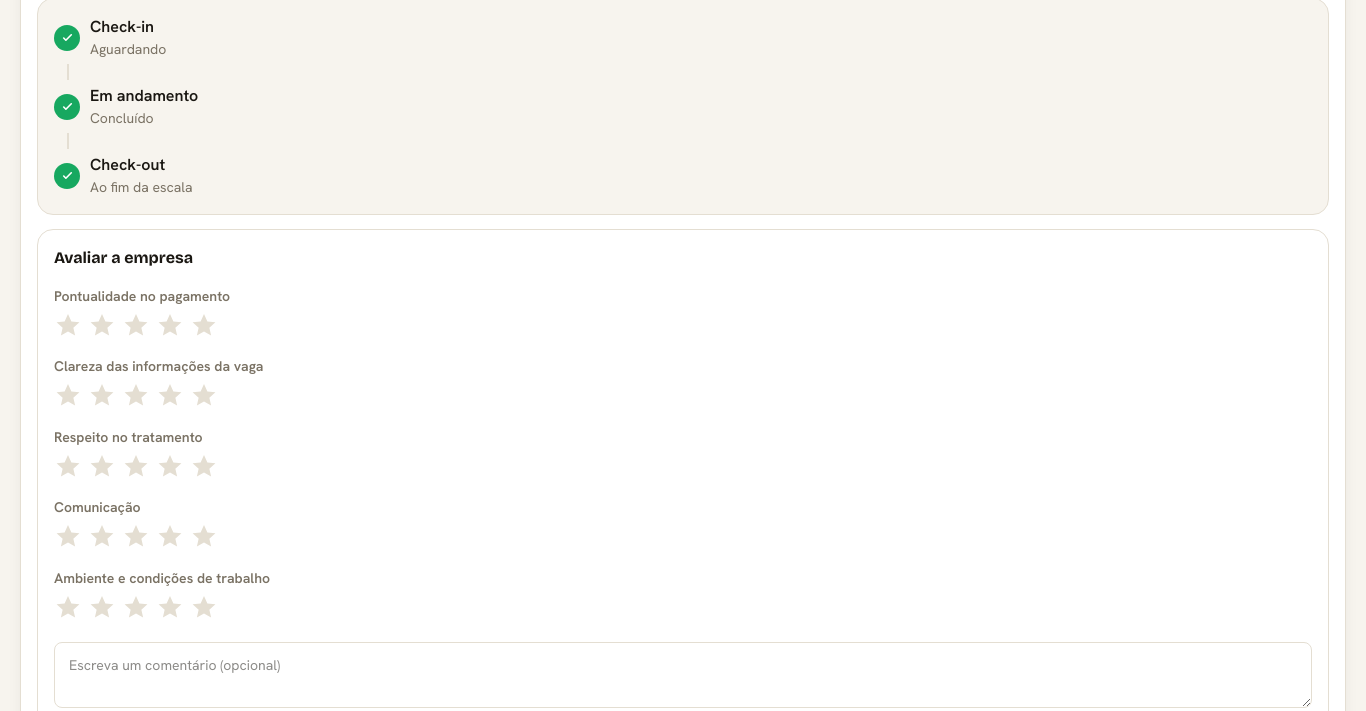
Test: AgendaPage › envia a avaliação só depois de preencher as 5 categorias
The image size is (1366, 711).
(page scrolled)
Expected: the text "Avaliar a empresa" is shown, [54,248,193,267]
Click the button named "Pontualidade no pagamento: 4 de 5": (170, 328) [156,311,184,344]
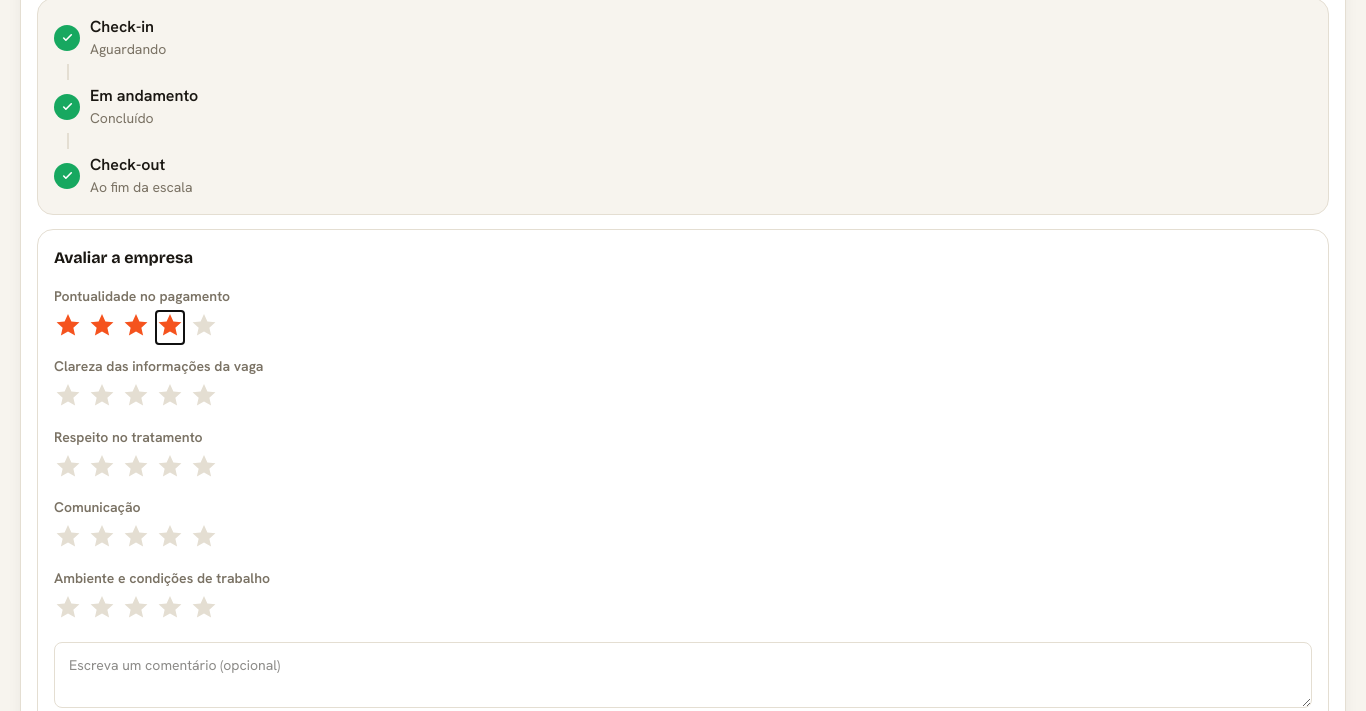
Click the button named "Clareza das informações da vaga: 4 de 5": (170, 398) [156,381,184,415]
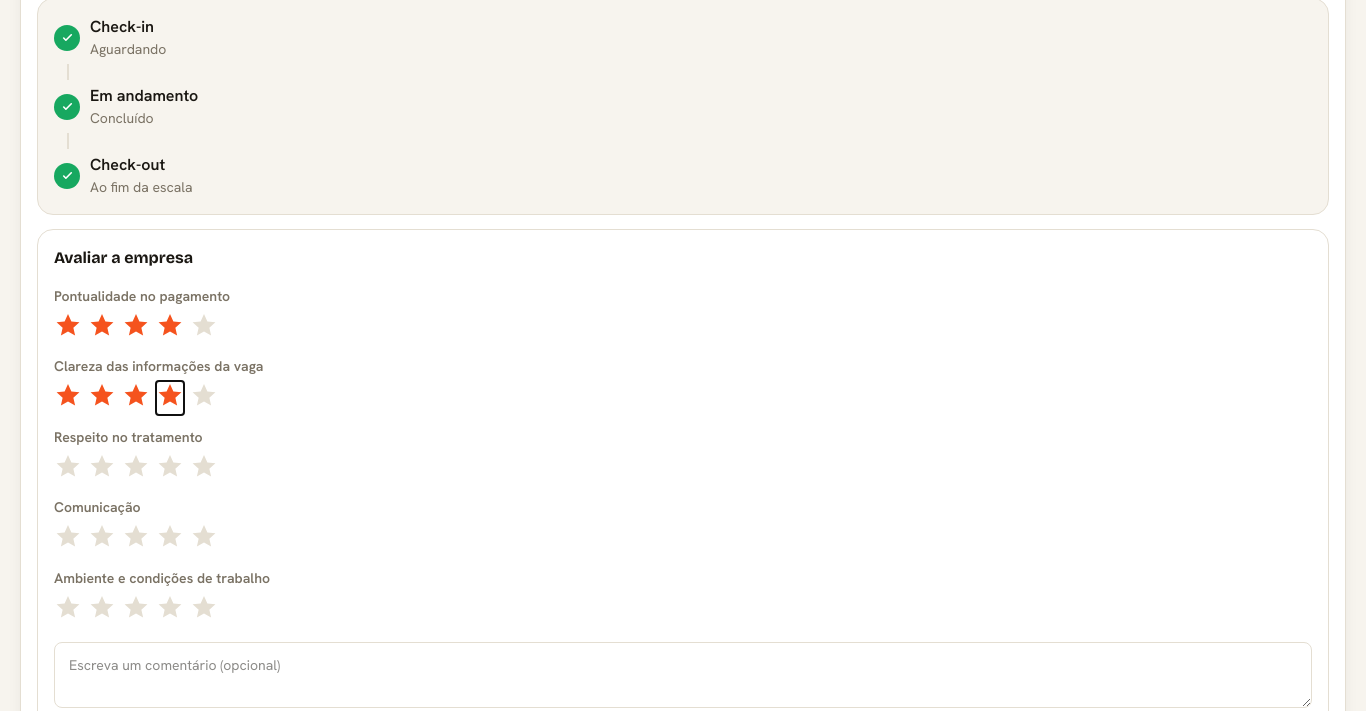
Click the button named "Respeito no tratamento: 4 de 5": (170, 468) [156,452,184,485]
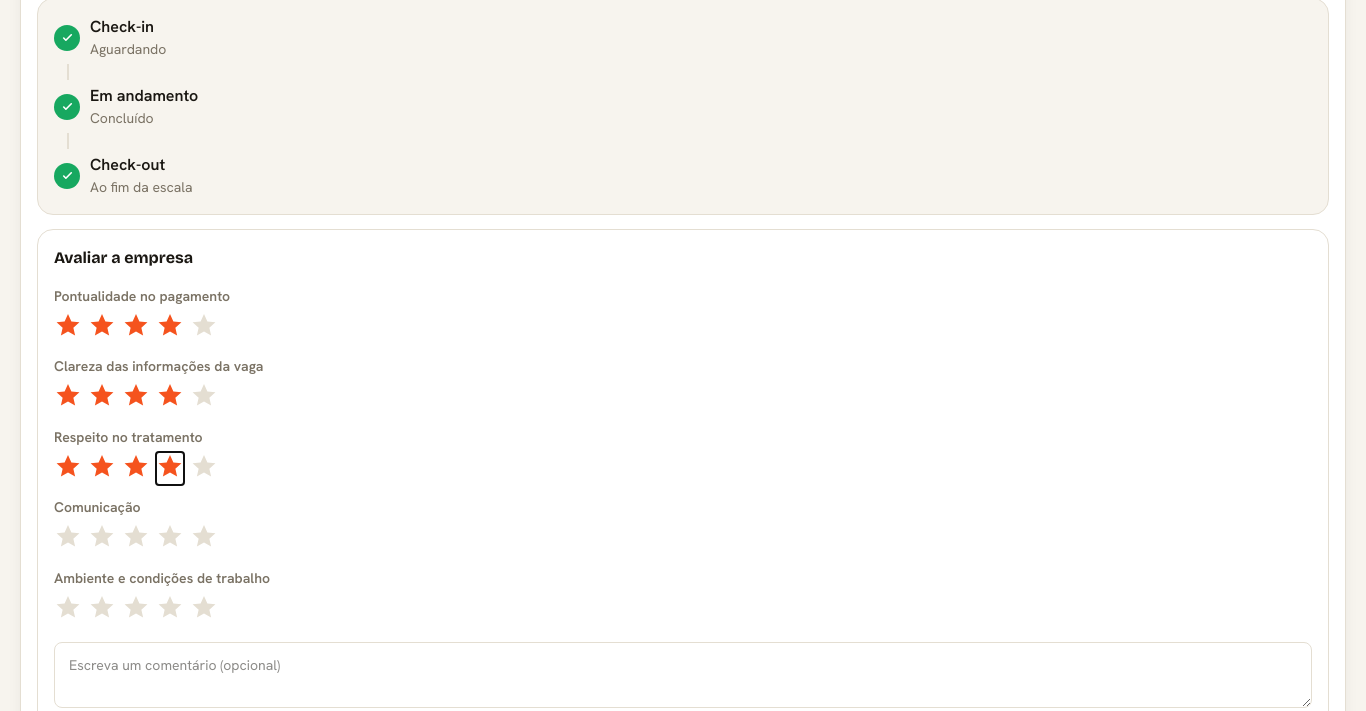
Click the button named "Comunicação: 4 de 5": (170, 539) [156,522,184,556]
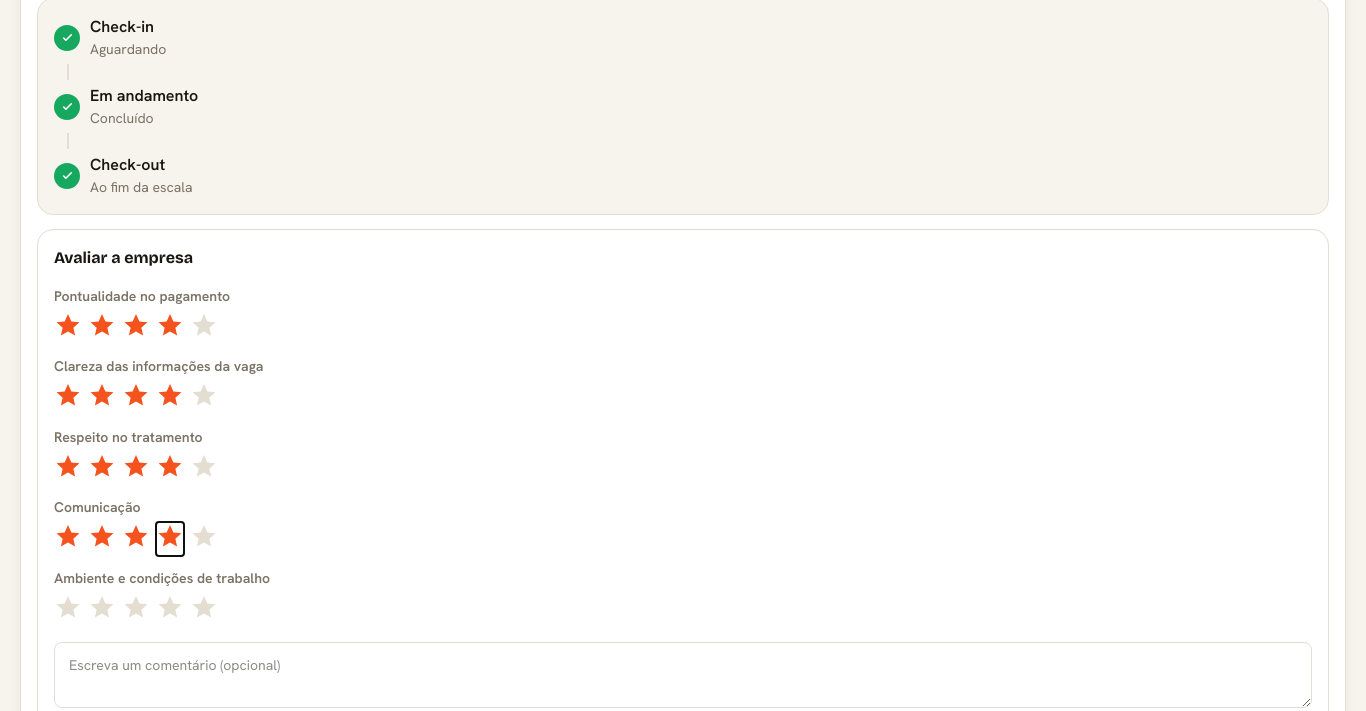
Click the button named "Ambiente e condições de trabalho: 4 de 5": (170, 609) [156,593,184,626]
(page scrolled)
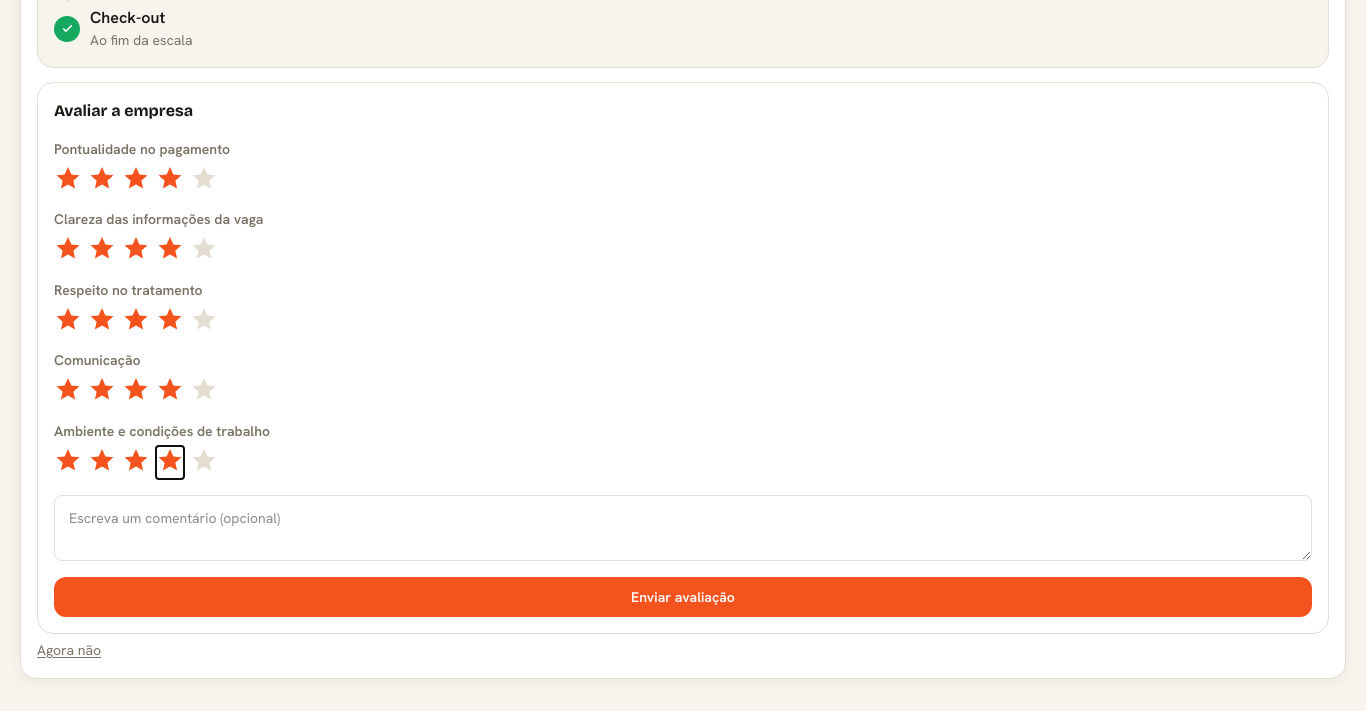
Click the button "Enviar avaliação": (683, 597) [54,577,1312,617]
(page scrolled)
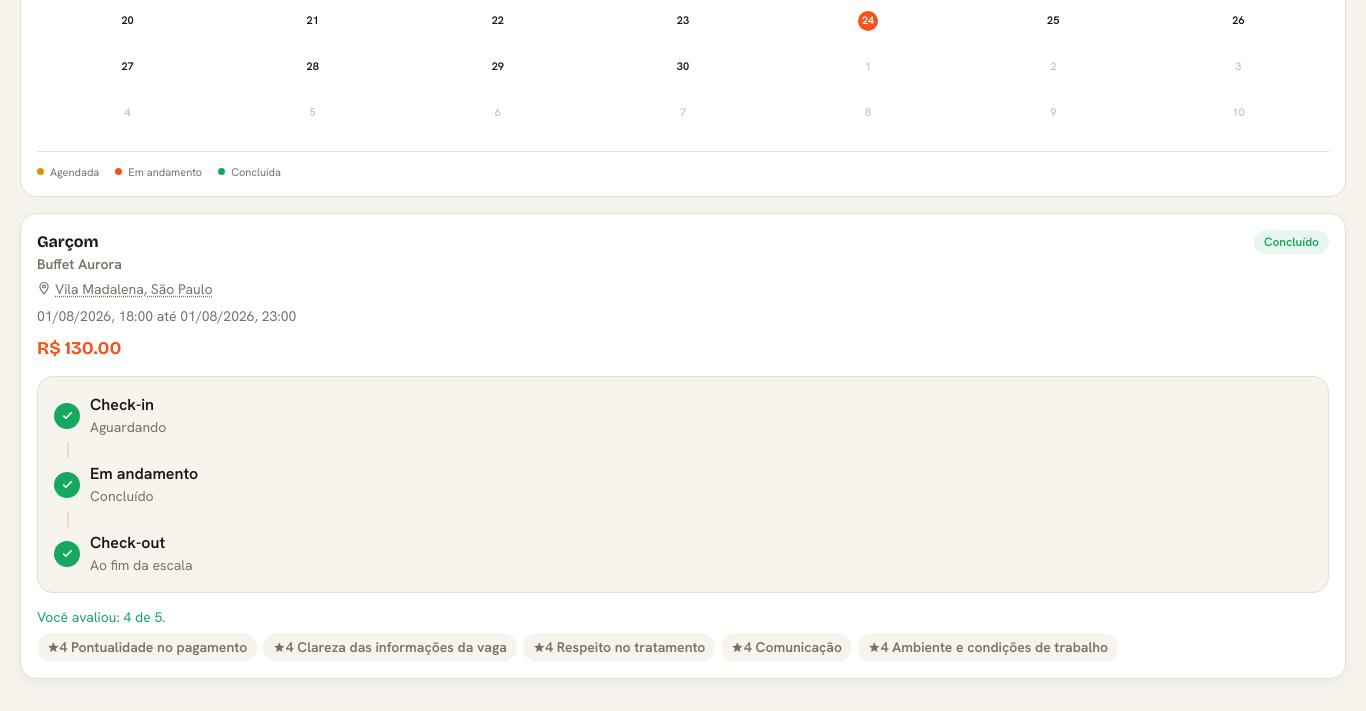
Expected: the text "Você avaliou: 4 de 5." is shown, [37,608,166,626]
